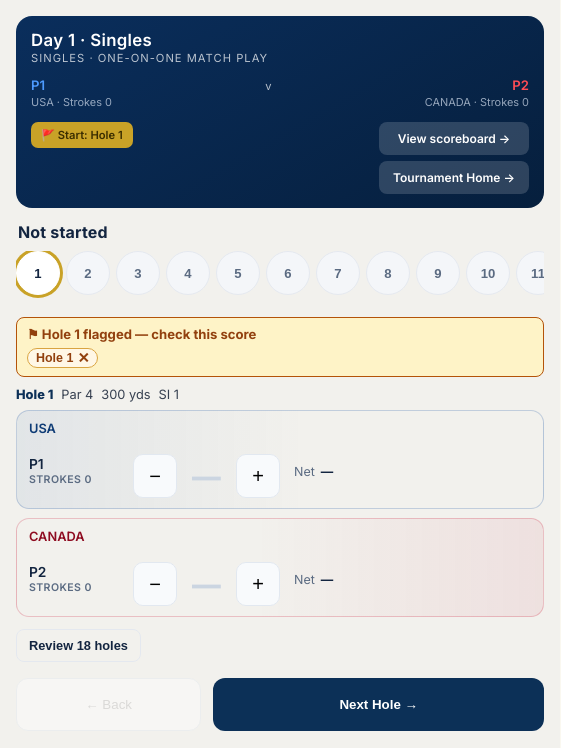
Test: match scorecard — flag this hole (B) › correcting the flagged hole's score clears the flag automatically
Expected: the element with test id "flag-marker-500" is shown, [16,317,544,377]
Click the 1st button with test id "ball-1-plus" at (258, 476), box [236,454,280,498]
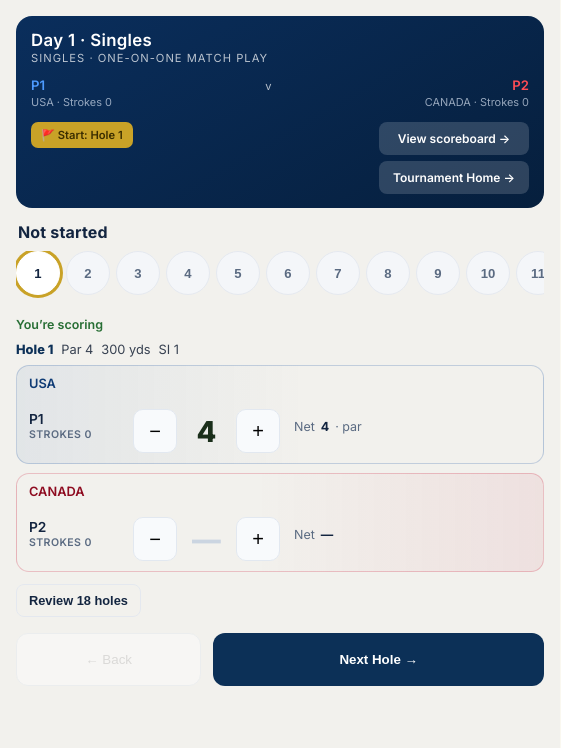
Expected: the element with test id "flag-marker-500" is gone
